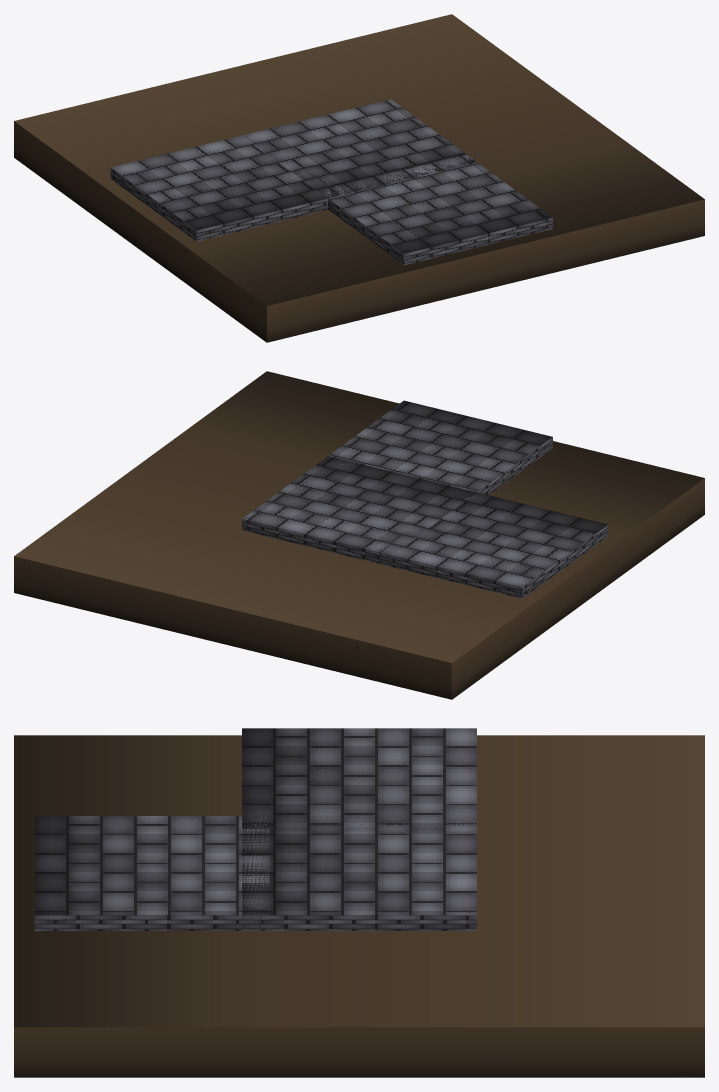
Rendered from path_corner.glb.
The picture shows the model from 3 angles, top to bottom: view 1: azimuth 30°, elevation 25°; view 2: azimuth 150°, elevation 25°; view 3: azimuth 270°, elevation 25°; orthographic projection. The views are drawn at different scales.
Parts seen in each view (by area): view 1: path_corner; view 2: path_corner; view 3: path_corner.
Part boxes in pixels (x1=…): path_corner: x1=14, y1=14, x2=704, y2=342; path_corner: x1=14, y1=371, x2=704, y2=699; path_corner: x1=14, y1=728, x2=704, y2=1077.
Size of the model in its own units: 1 by 0.105 by 1.
1 material, 1 textured.
